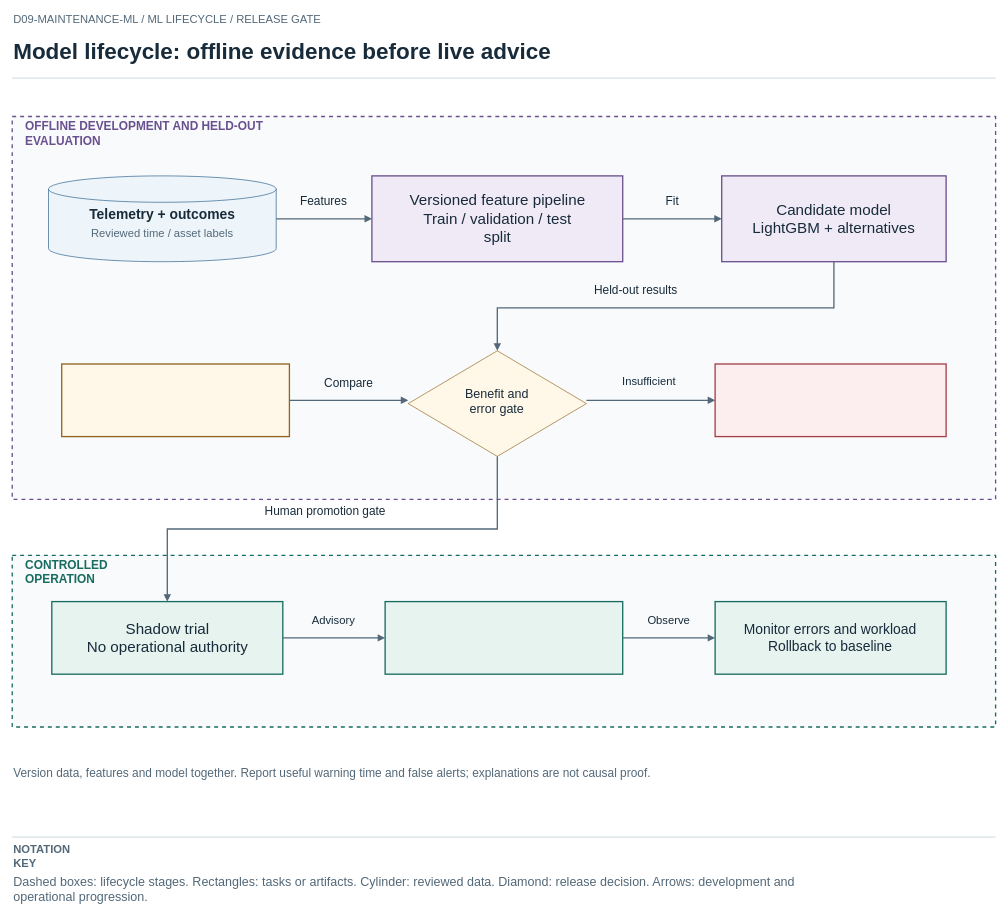
Image size: 1008x917. Some labels were removed from this diagram. The shapes that lost their labels are listed below. From the top down, each one's box as (x1, y1, x2, y2) in pixels, then its label:
(61, 363, 290, 437): Inspection / threshold baseline
(714, 363, 946, 437): Reject / improve data Keep the baseline
(384, 601, 623, 675): Mechanic reviews advice Retains inspection authority
